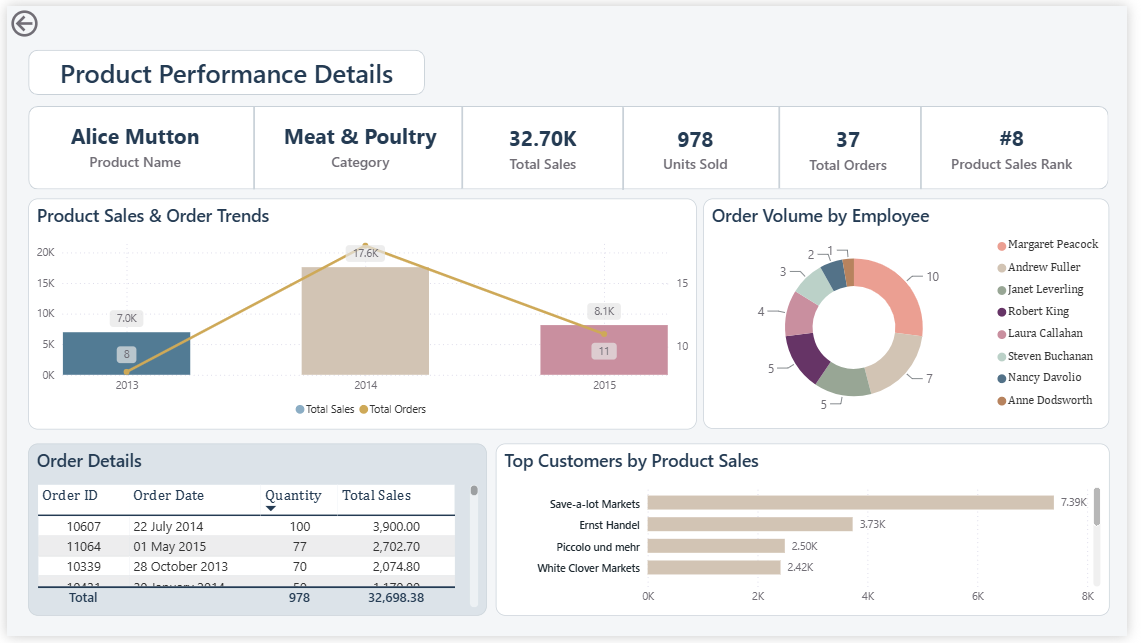

The dashboard page shown, as its layout file describes it:
{"tool":"powerbi","page":{"name":"Page 2","canvas":[1280,720],"ordinal":1},"visuals":[{"type":"actionButton","box":[0,0,100,40],"z":0},{"type":"shape","box":[24,114.5,1234.6,95.4],"z":0,"group":"g1"},{"type":"shape","box":[24.3,50,453.3,51.7],"z":1000},{"type":"cardVisual","fields":{"Data":["order_details.Product Sales Rank Display"]},"box":[1044.8,119.9,205,85],"z":1000,"group":"g1"},{"type":"cardVisual","fields":{"Data":["Min(products.productName)"]},"box":[30.9,116.8,230,86.9],"z":2000,"group":"g1"},{"type":"cardVisual","fields":{"Data":["Min(products.Category Name)"]},"box":[285.4,116.3,236,89.3],"z":3000,"group":"g1"},{"type":"shape","box":[513.3,114.6,12,94.5],"z":4000,"group":"g1"},{"type":"lineClusteredColumnComboChart","title":"Product Sales & Order Trends","fields":{"Category":["orders.orderDate.Variation.Date Hierarchy.Year","orders.orderDate.Variation.Date Hierarchy.Quarter","orders.orderDate.Variation.Date Hierarchy.Month","orders.orderDate.Variation.Date Hierarchy.Day"],"Y":["order_details.Total sales"],"Y2":["order_details.Total orders"]},"box":[24.3,220,764.3,264.3],"z":4000},{"type":"shape","box":[690.6,115.5,25.5,94.5],"z":5000,"group":"g1"},{"type":"shape","box":[868.6,115.1,28,94],"z":6000,"group":"g1"},{"type":"clusteredBarChart","title":"Top Customers by Product Sales","fields":{"Y":["order_details.Total Sales"],"Category":["customers.companyName"]},"box":[558.6,500,701.4,197.1],"z":6000},{"type":"shape","box":[275.5,114.5,13.3,95.6],"z":7000,"group":"g1"},{"type":"tableEx","title":"Order Details","fields":{"Values":["order_details.orderID","orders.orderDate","Sum(order_details.Quantity)","order_details.Total sales"]},"box":[24.3,500,524.3,197.1],"z":7000},{"type":"cardVisual","fields":{"Data":["order_details.Units Sold"]},"box":[716.4,122,139.8,82.4],"z":8000,"group":"g1"},{"type":"donutChart","title":"Order Volume by Employee","fields":{"Category":["employees.employeeName"],"Y":["order_details.Total orders"]},"box":[795.7,220,464.3,262.9],"z":8000},{"type":"cardVisual","fields":{"Data":["order_details.Total Orders"]},"box":[887.5,121.3,148.4,84.4],"z":9000,"group":"g1"},{"type":"cardVisual","fields":{"Data":["order_details.Total Sales"]},"box":[542.5,120.7,139.8,85.1],"z":10000,"group":"g1"},{"type":"shape","box":[1030,114.5,29,95],"z":11000,"group":"g1"},{"type":"group","id":"g1","title":"Group 1","box":[24,114.5,1234.6,95.6],"z":18002}]}

Visuals, with their boxes in screenshot pixels (x1, y1, x2, y2), scaled from the page's 1280x720 canvas onto the 1141x643 screenshot:
actionButton: (0, 0, 89, 36)
shape: (21, 102, 1122, 187)
shape: (22, 45, 426, 91)
cardVisual - order_details.Product Sales Rank Display: (931, 107, 1114, 183)
cardVisual - Min(products.productName): (28, 104, 233, 182)
cardVisual - Min(products.Category Name): (254, 104, 465, 184)
shape: (458, 102, 468, 187)
"Product Sales & Order Trends" lineClusteredColumnComboChart: (22, 196, 703, 433)
shape: (616, 103, 638, 188)
shape: (774, 103, 799, 187)
"Top Customers by Product Sales" clusteredBarChart: (498, 447, 1123, 623)
shape: (246, 102, 257, 188)
"Order Details" tableEx: (22, 447, 489, 623)
cardVisual - order_details.Units Sold: (639, 109, 763, 183)
"Order Volume by Employee" donutChart: (709, 196, 1123, 431)
cardVisual - order_details.Total Orders: (791, 108, 923, 184)
cardVisual - order_details.Total Sales: (484, 108, 608, 184)
shape: (918, 102, 944, 187)
"Group 1" group: (21, 102, 1122, 188)
